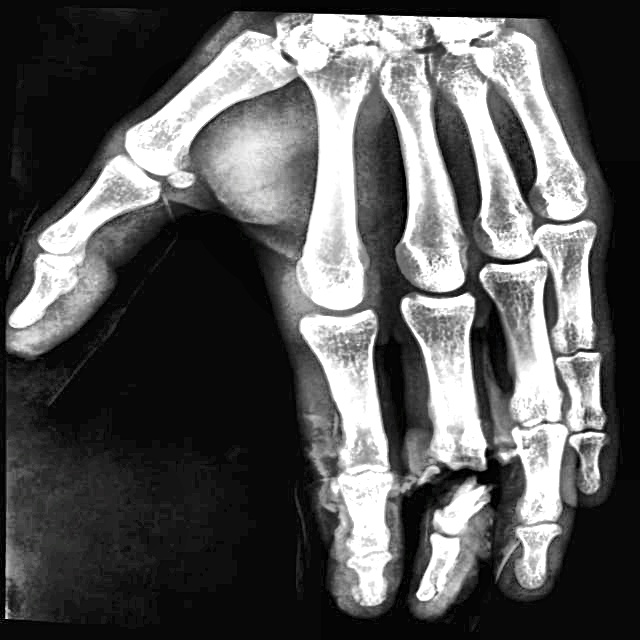Transverse: (415, 442, 505, 536)
